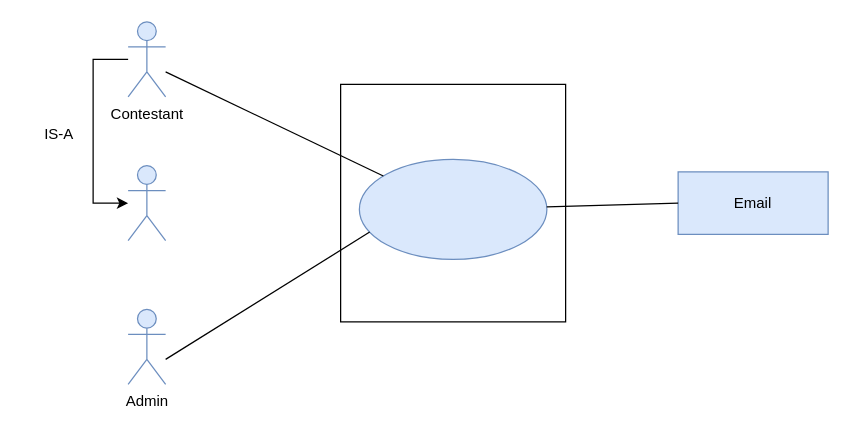
Some shapes in this 850 by 433 pixel diagram are drawn without their labels. Here are the shapes that lost their labels. From the top down, the centre of each, then its label:
(x=146, y=202): Problem-Setter
(x=452, y=208): CodeSphere
